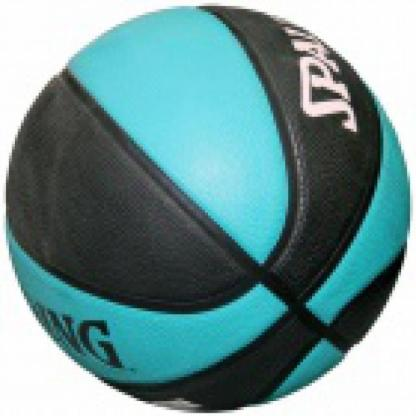basketball: (0, 0, 411, 413)
